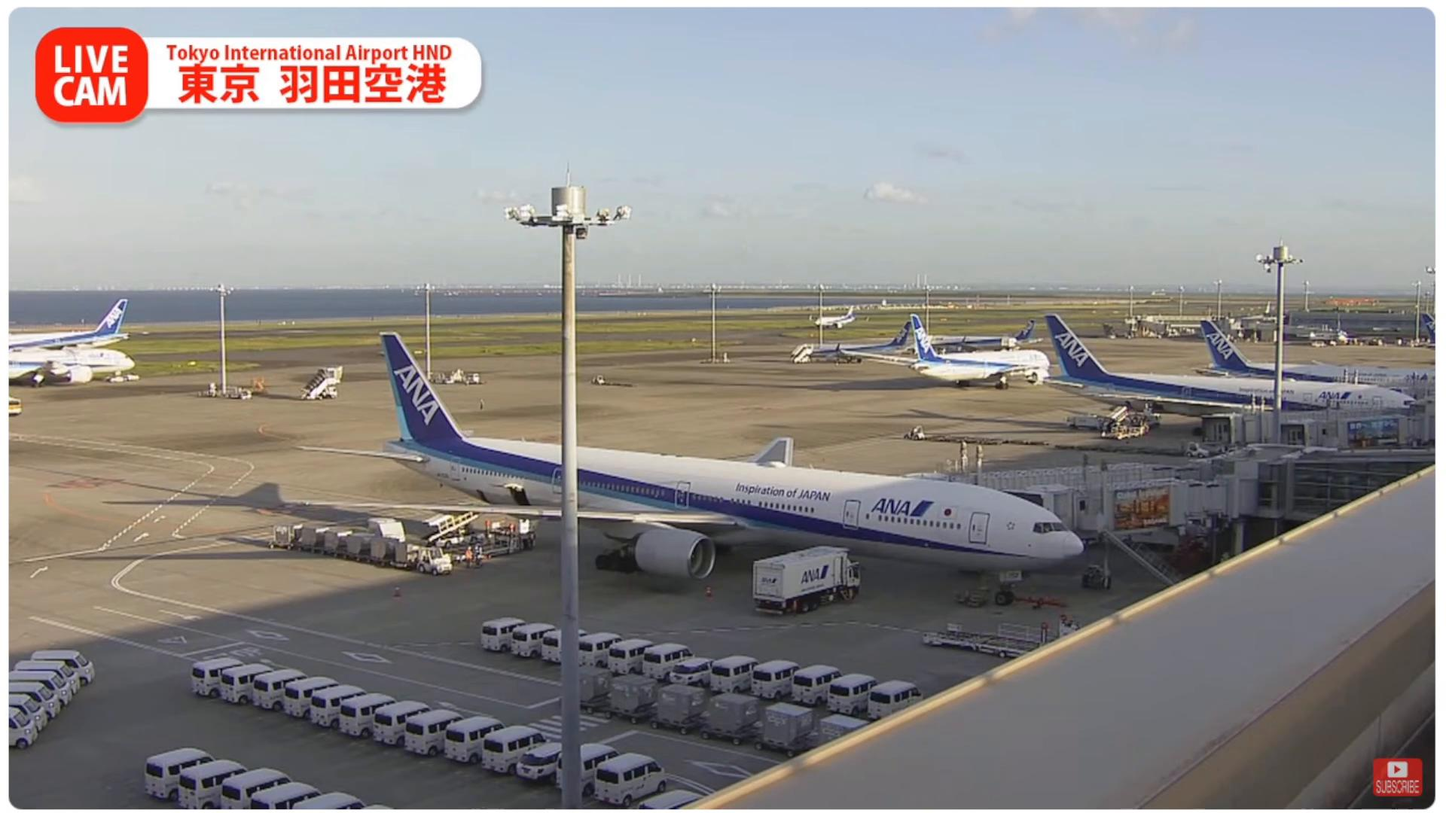Aerobridge: (990, 474, 1217, 523), (903, 458, 1204, 486)
Airplane: (290, 334, 1085, 584)
Baggage truck: (367, 516, 406, 541)
Catering: (752, 549, 860, 616)
Dolly: (541, 665, 853, 755), (270, 522, 424, 572)
JCPL: (908, 613, 1071, 657), (442, 510, 538, 563)
Skyloader: (419, 512, 479, 546)
Tractor: (417, 547, 455, 576)
Window: (1253, 443, 1435, 520)
